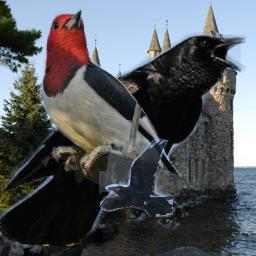Crow: (0, 32, 246, 246), (99, 138, 173, 217)
Woodpecker: (34, 0, 190, 197)
